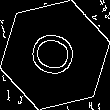O_E: (25, 27, 85, 83)
